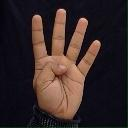hand: (31, 8, 101, 120)
